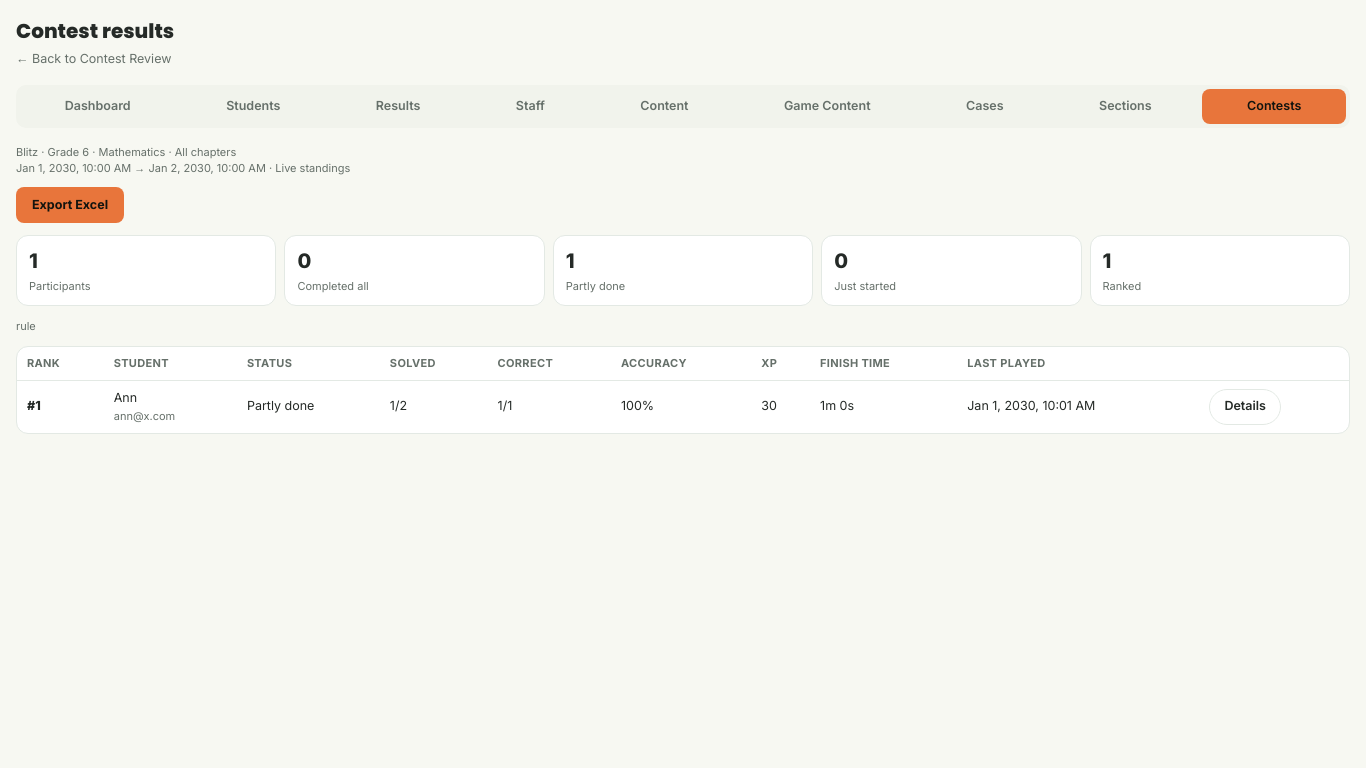
it: AdminContestResults › uses the ADMIN endpoints and links back to contest review
expect the text "Ann" is shown: met, box [114,390,137,405]
What coordinates should you click on to do the following:
click the button with aria-label "Details for Ann"
I would click on:
 (1245, 407)
Its box is [1209,389,1281,425].
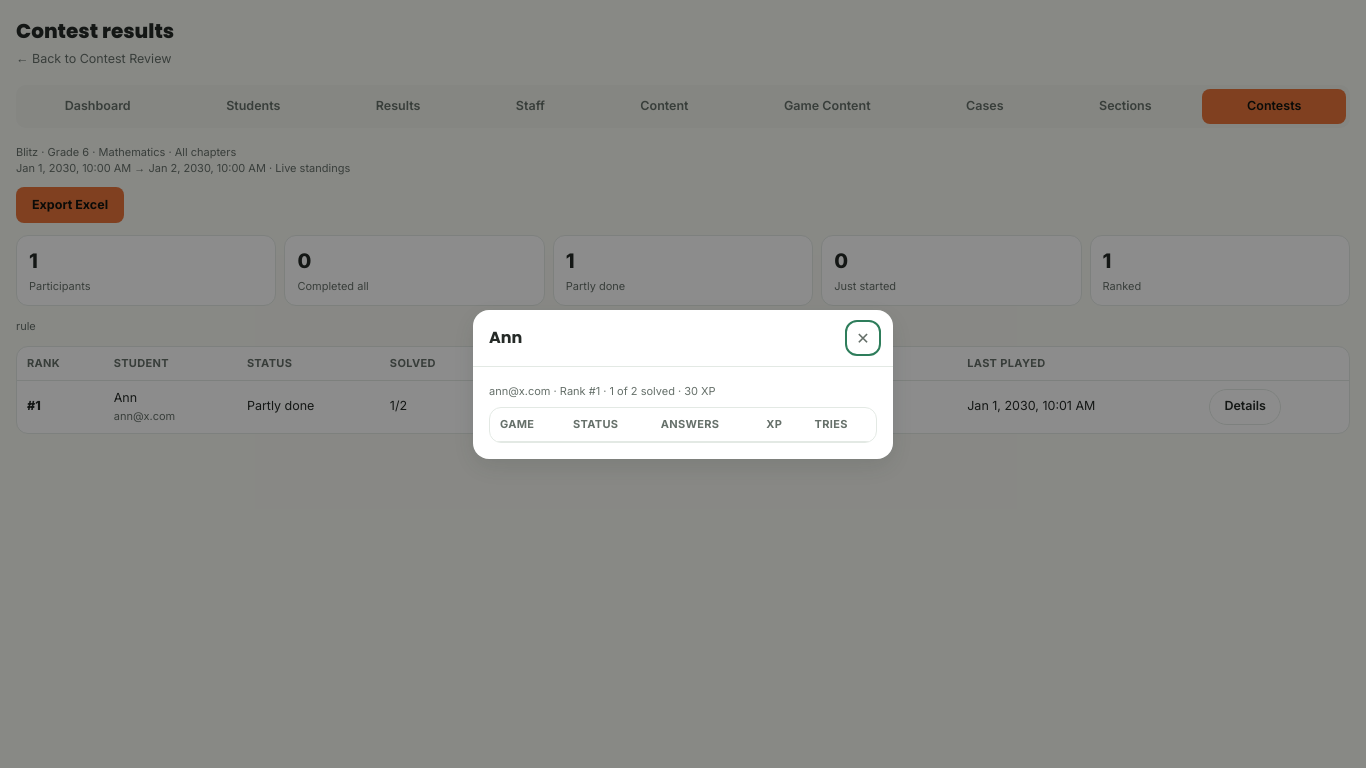
expect the dialog is shown: met, box [473,310,893,458]
